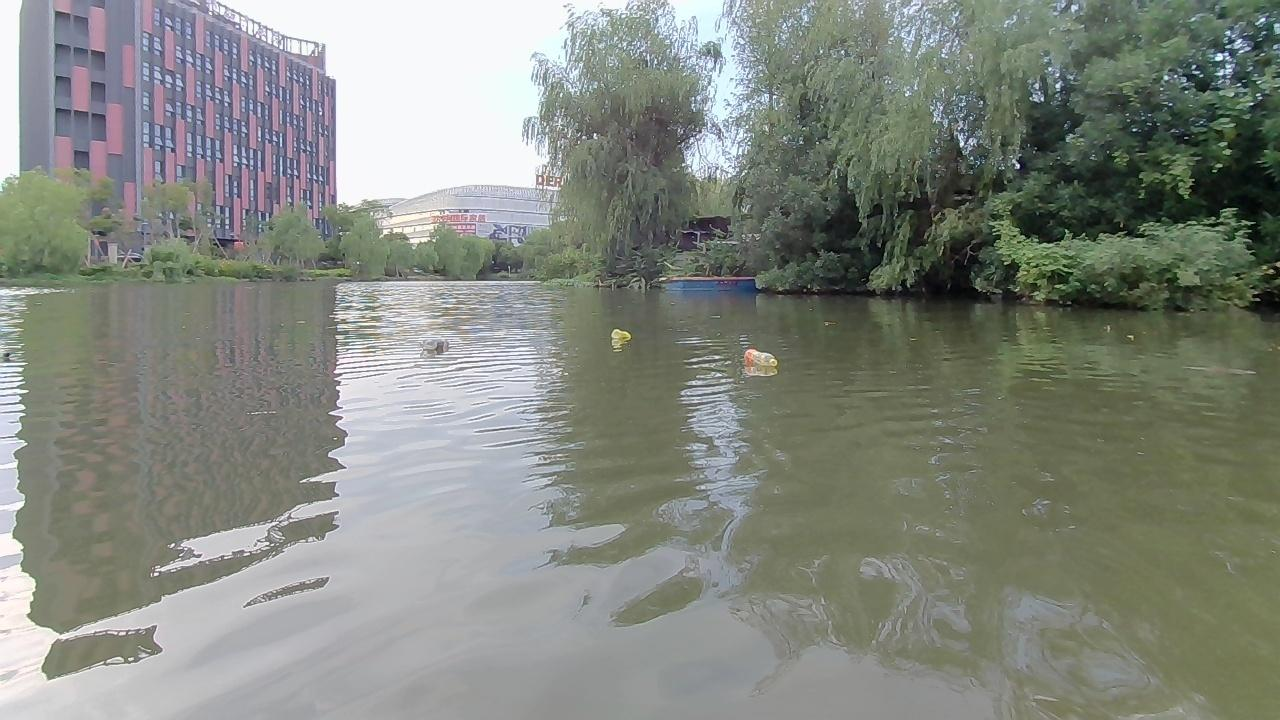bottle: (738, 346, 781, 369), (418, 336, 453, 354), (608, 327, 634, 344)
